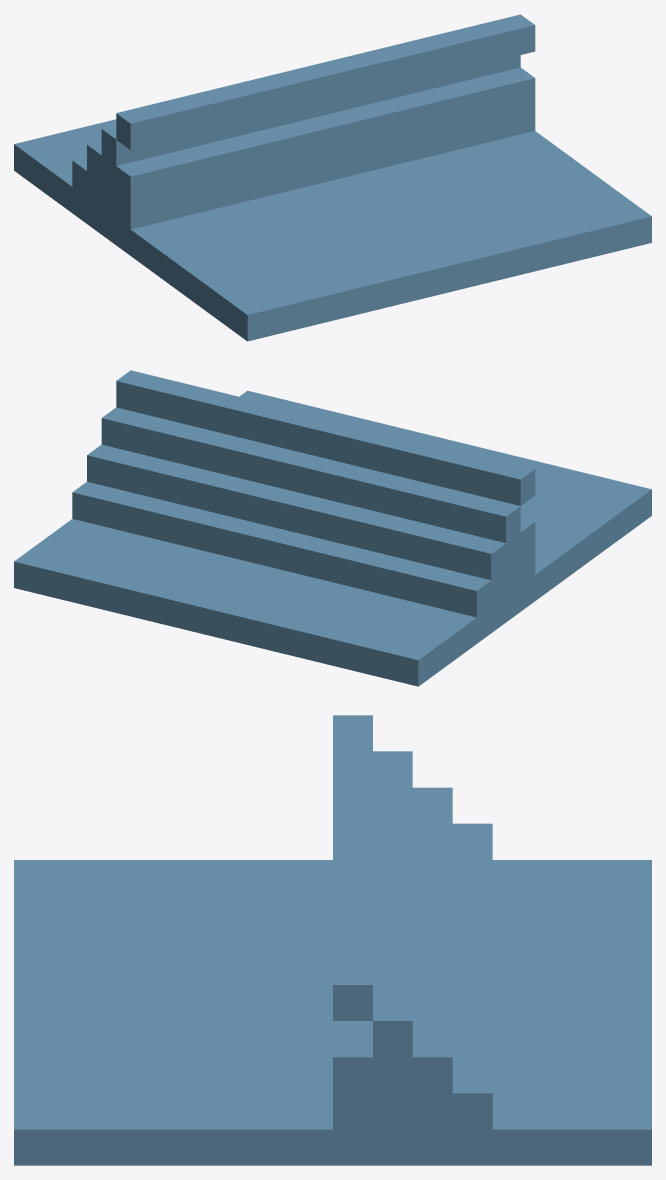
The model's file is water-03.obj.
3 renders of one model, top to bottom at view 1: azimuth 30°, elevation 25°; view 2: azimuth 150°, elevation 25°; view 3: azimuth 270°, elevation 25°, orthographic. The views are drawn at different scales.
Size of the model in its own units: 16 by 5 by 16.
Materials: 1 (1 with a texture image).
